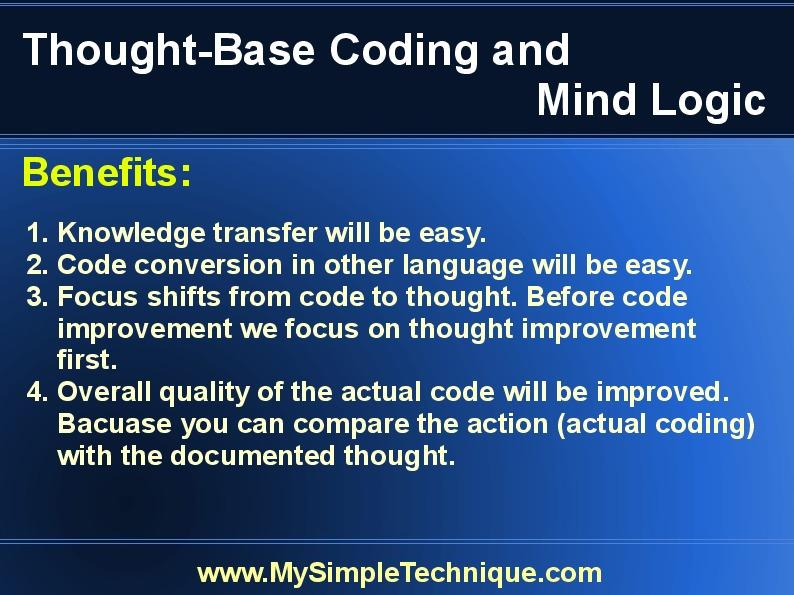paragraph: (24, 206, 771, 492)
subtitle: (16, 148, 204, 196)
title: (18, 15, 778, 133)
